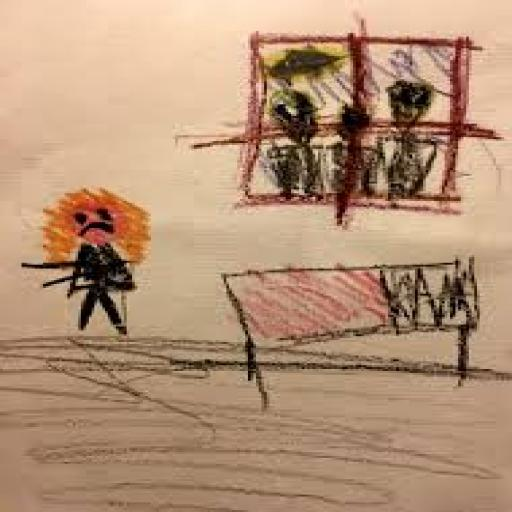person: (12, 181, 202, 355)
